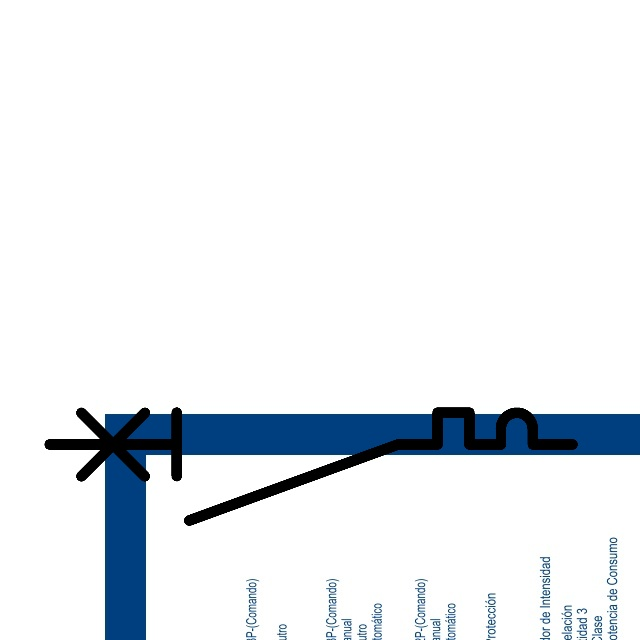interruptor_termomagnetico: (36, 399, 586, 533)
